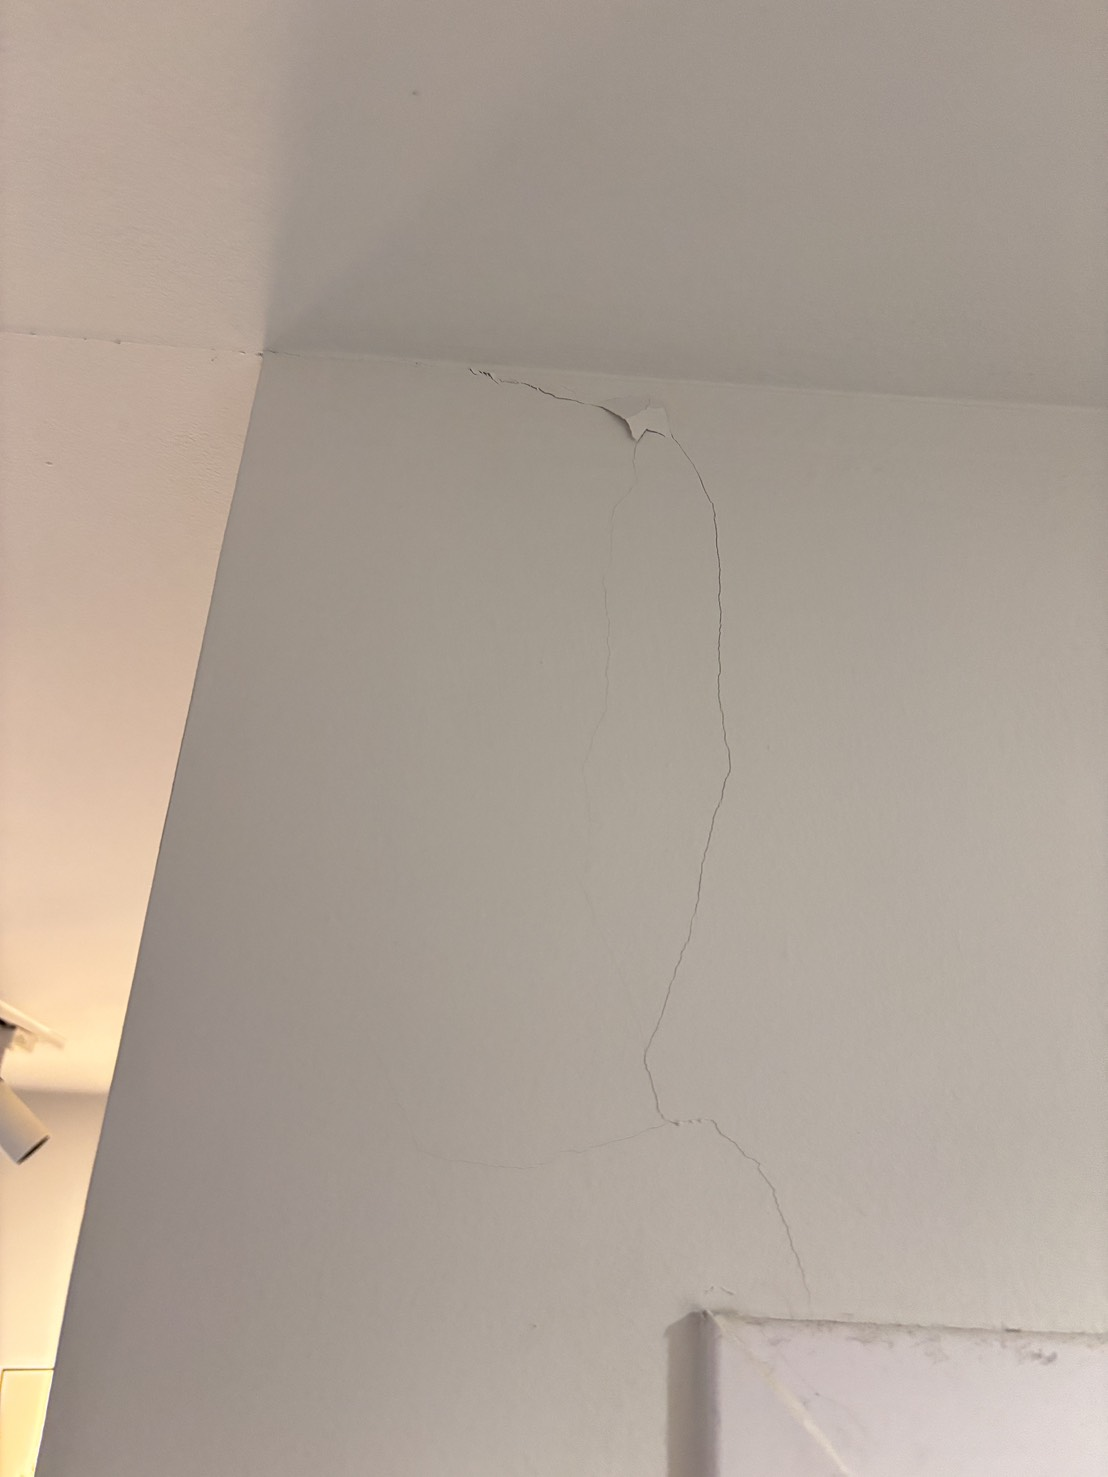Low: (452, 356, 834, 1318)
